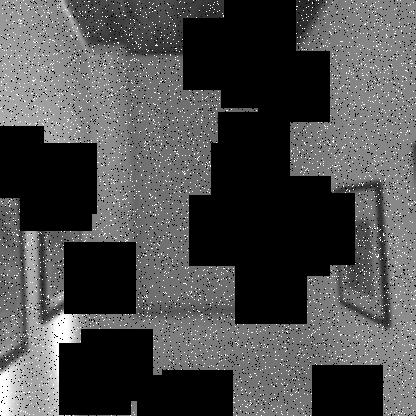Porte: (113, 46, 297, 328)
